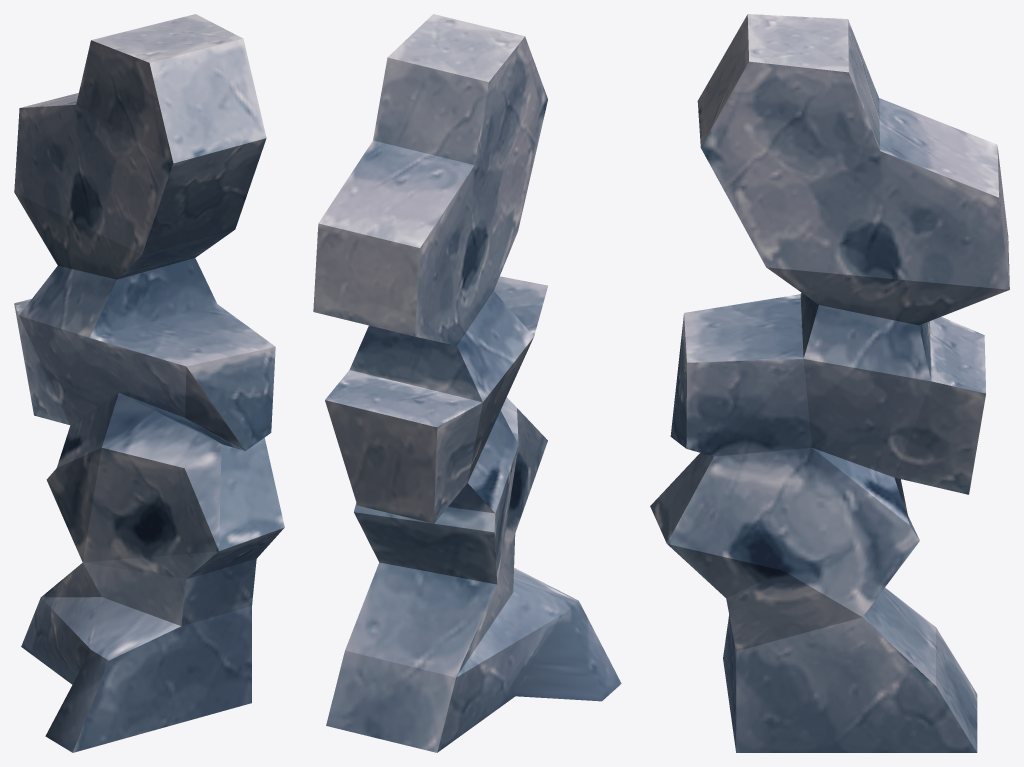
File: shuiguanjiashan01.FBX
The picture shows the model from 3 angles, left to right: view 1: azimuth 30°, elevation 25°; view 2: azimuth 150°, elevation 25°; view 3: azimuth 270°, elevation 25°; orthographic projection. The views are drawn at different scales.
Parts seen in each view (by area): view 1: shuiguanjiashan01; view 2: shuiguanjiashan01; view 3: shuiguanjiashan01.
Boxes of the visible parts, <box> form: shuiguanjiashan01: <box>14,14,284,752</box>; shuiguanjiashan01: <box>313,14,621,752</box>; shuiguanjiashan01: <box>650,14,1009,752</box>.
Bounding box in the file's own units: 172 × 245 × 520.
